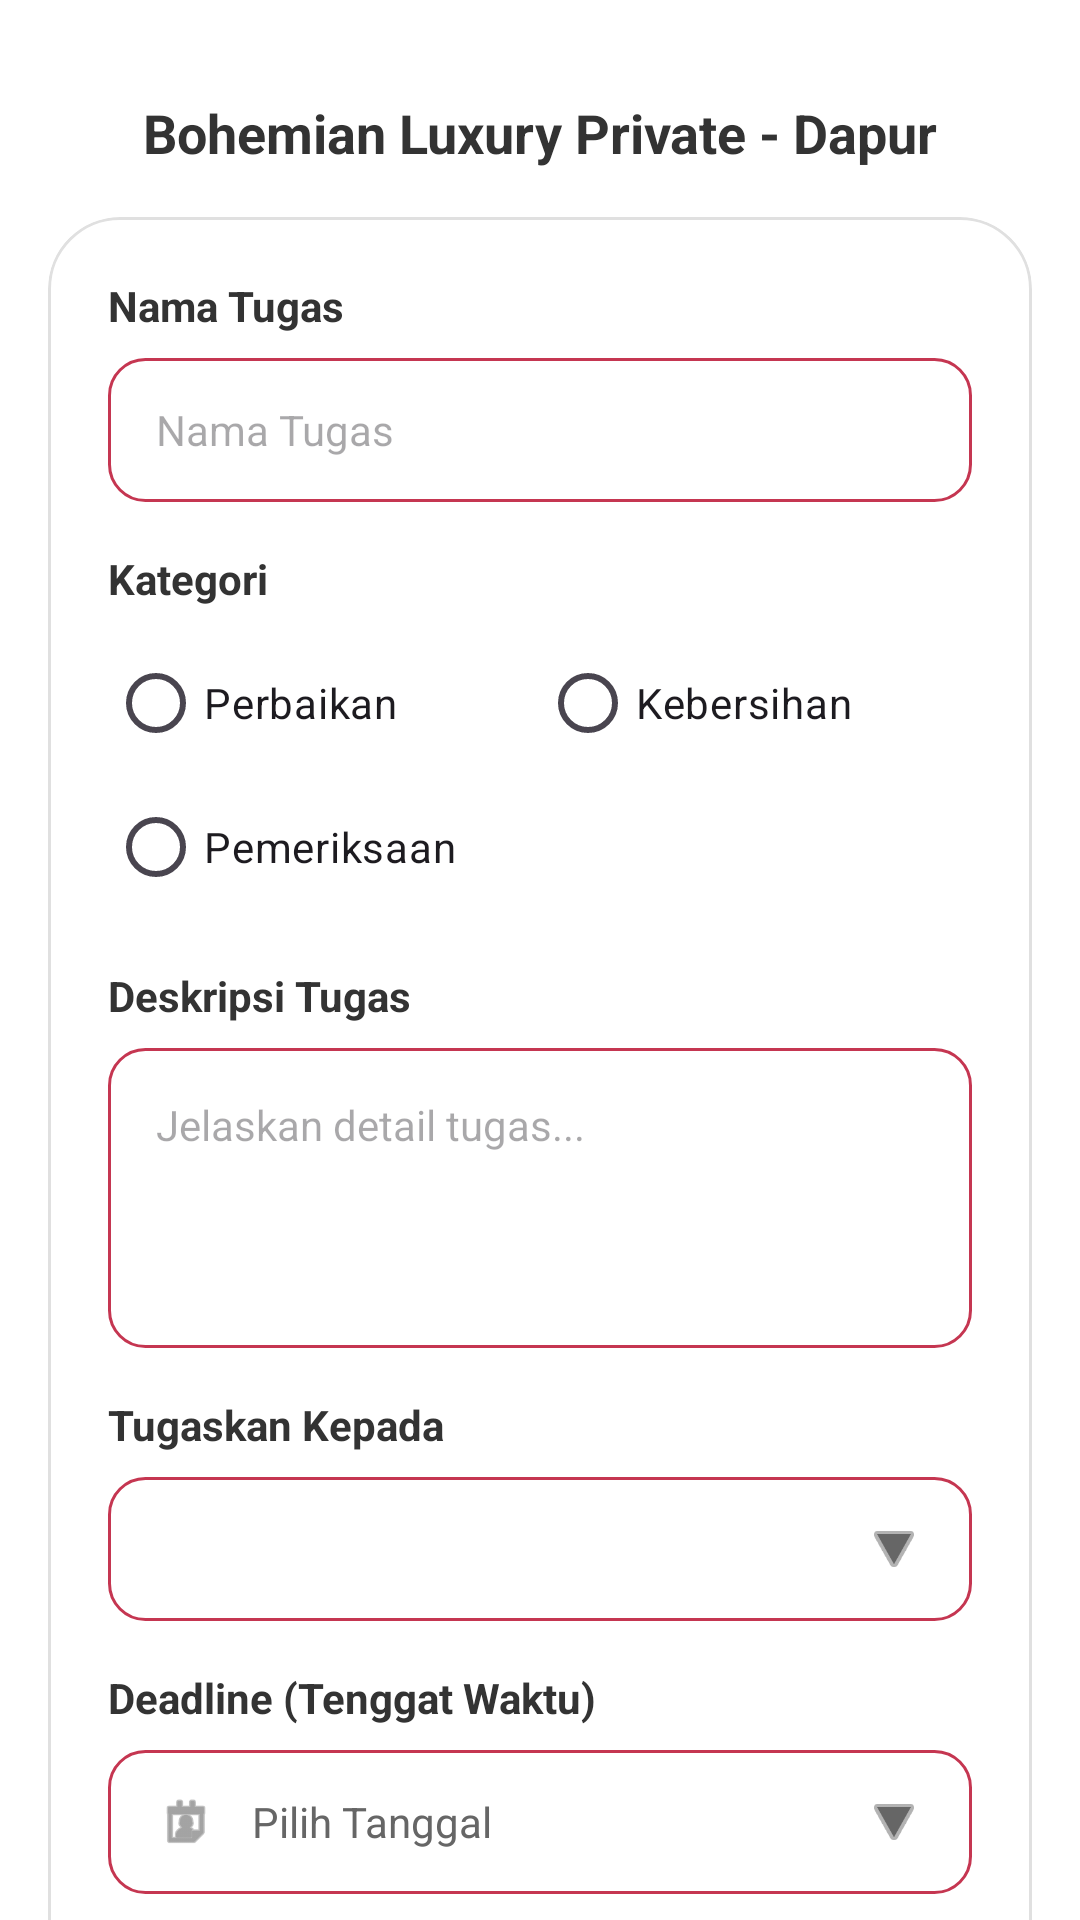

Icon click points for this 1080w x 1920h phone screenshot, format point (x, y):
calendar: point (186, 1821)
